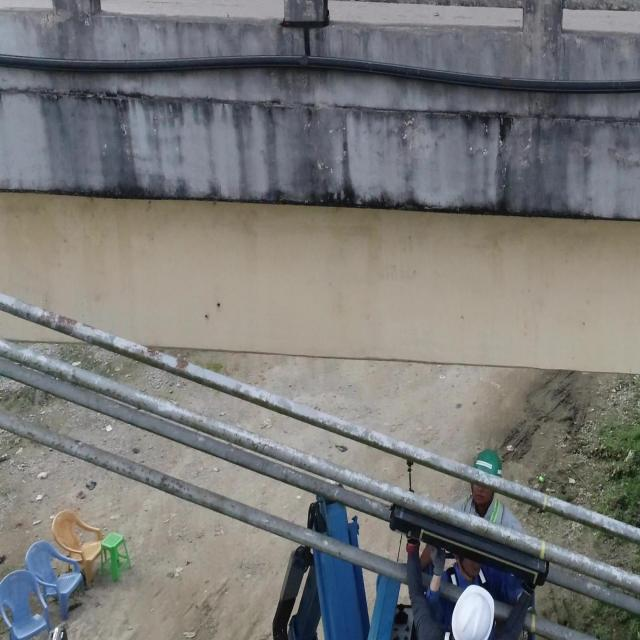corrosion: (58, 316, 75, 334), (147, 345, 160, 365), (42, 312, 57, 327), (176, 359, 190, 372)
